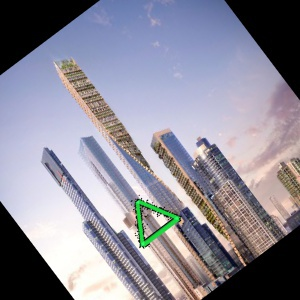triangle: (132, 195, 181, 249)
